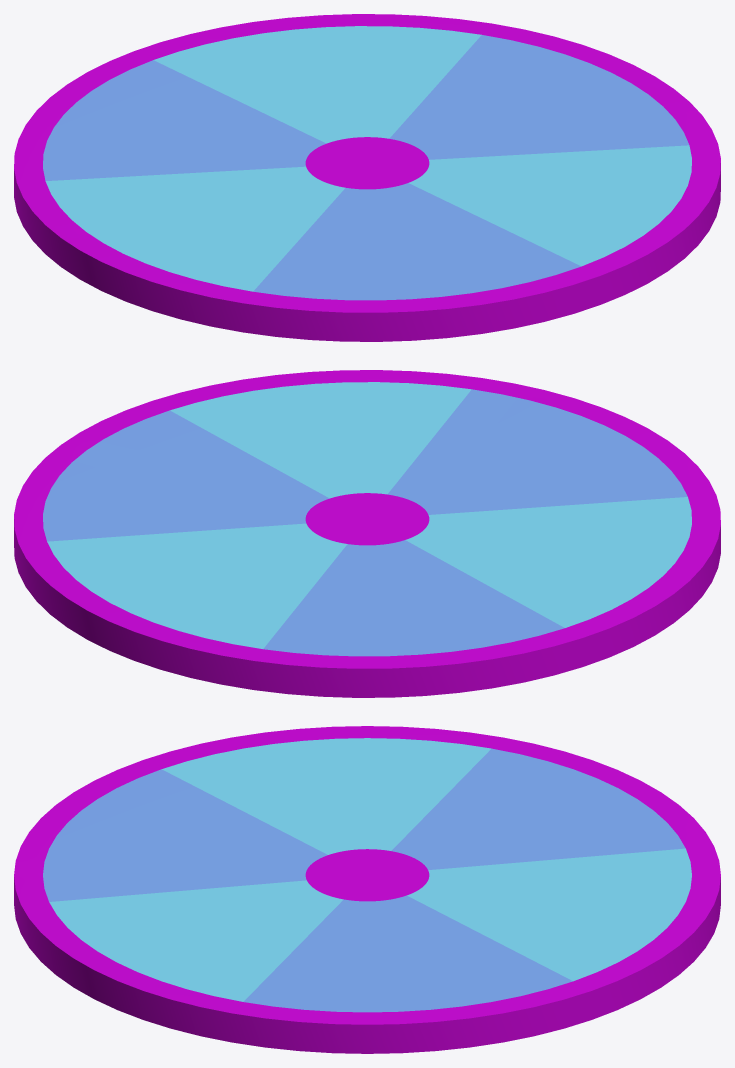
Rendered from Planform.fbx.
3 renders of one model, top to bottom at view 1: azimuth 30°, elevation 25°; view 2: azimuth 150°, elevation 25°; view 3: azimuth 270°, elevation 25°, orthographic.
Parts seen in each view (by area): view 1: Cylinder; view 2: Cylinder; view 3: Cylinder.
Part boxes in pixels (<box>): Cylinder: <box>14,14,720,341</box>; Cylinder: <box>14,370,720,697</box>; Cylinder: <box>14,726,720,1053</box>.
Size of the model in its own units: 2178 by 100 by 2178.
